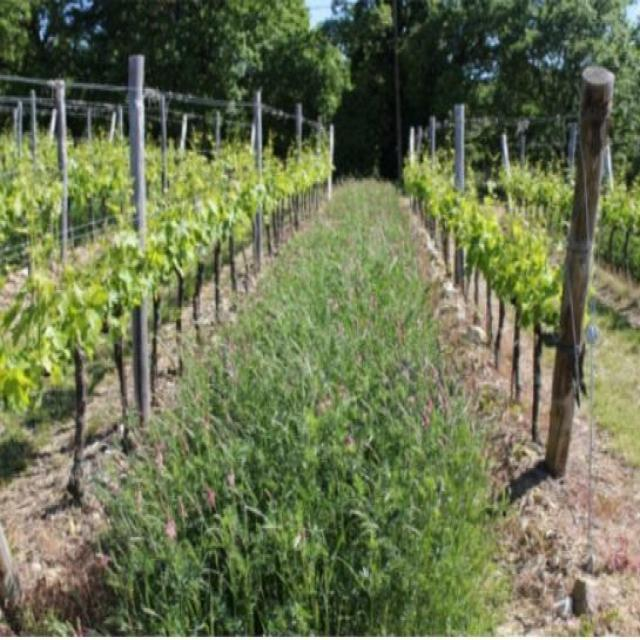row: (2, 176, 577, 639)
